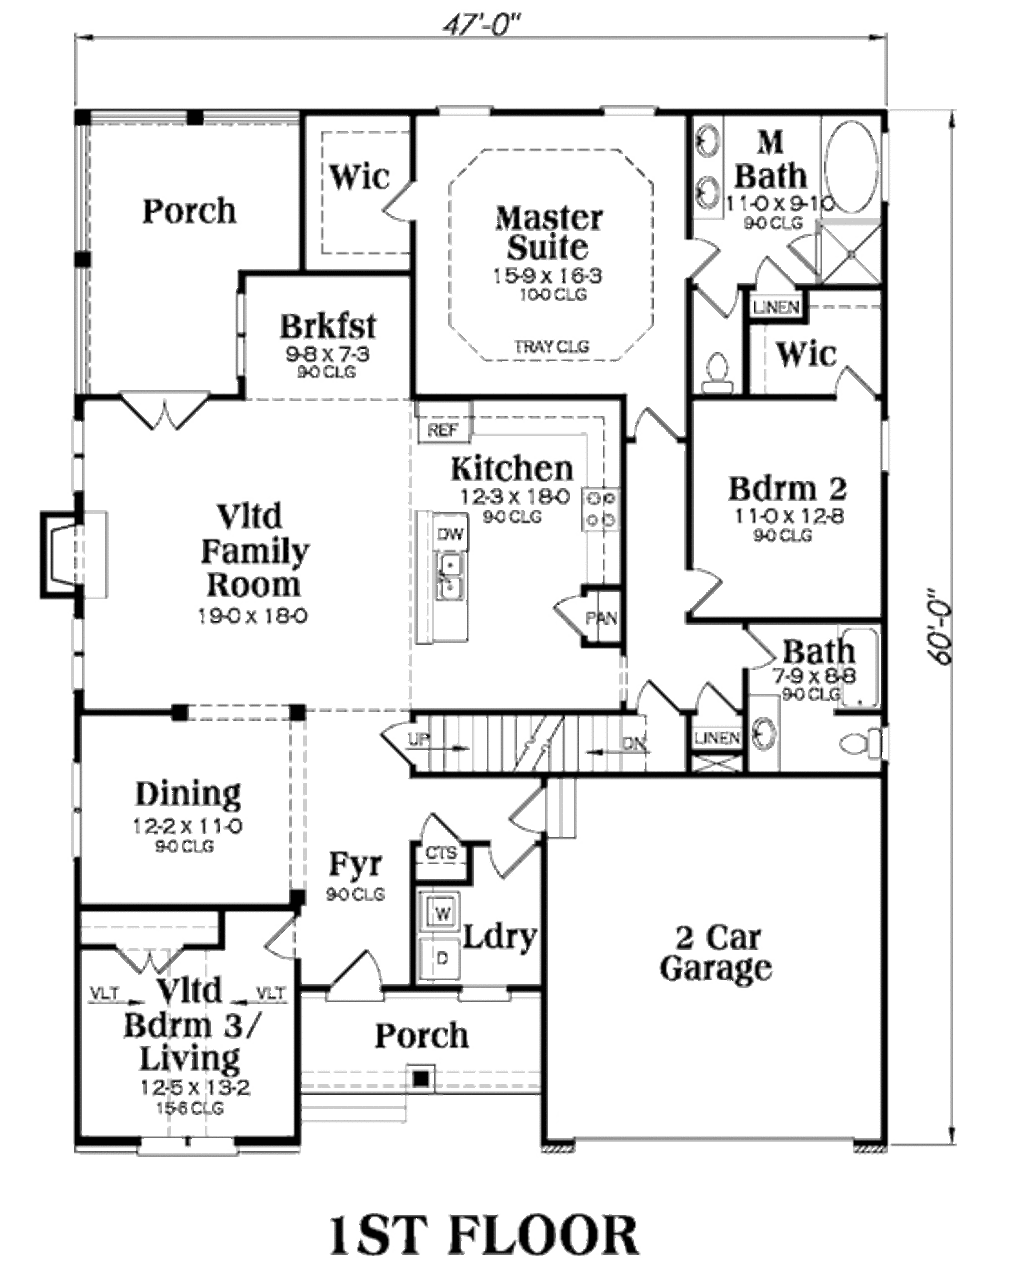door: (122, 381, 212, 436), (303, 950, 385, 1005), (108, 936, 189, 981), (622, 675, 693, 724), (679, 560, 738, 617), (483, 828, 542, 882), (267, 905, 316, 970), (360, 715, 420, 768), (612, 403, 677, 450), (383, 175, 430, 236), (504, 781, 553, 835), (781, 226, 822, 283), (686, 685, 753, 721), (818, 358, 872, 401), (732, 622, 777, 673), (550, 591, 597, 638), (697, 277, 746, 321), (679, 232, 718, 279), (752, 252, 795, 291), (426, 811, 461, 850)
large_sink: (822, 715, 895, 766), (699, 348, 742, 397)
small_sink: (679, 119, 734, 221), (752, 691, 787, 783)
tub: (814, 115, 891, 221), (828, 621, 885, 715)
twin_sink: (434, 540, 475, 613)
window: (130, 1126, 250, 1168), (71, 752, 101, 852), (452, 976, 526, 1015), (67, 603, 89, 687), (597, 91, 652, 119), (436, 101, 495, 121)
